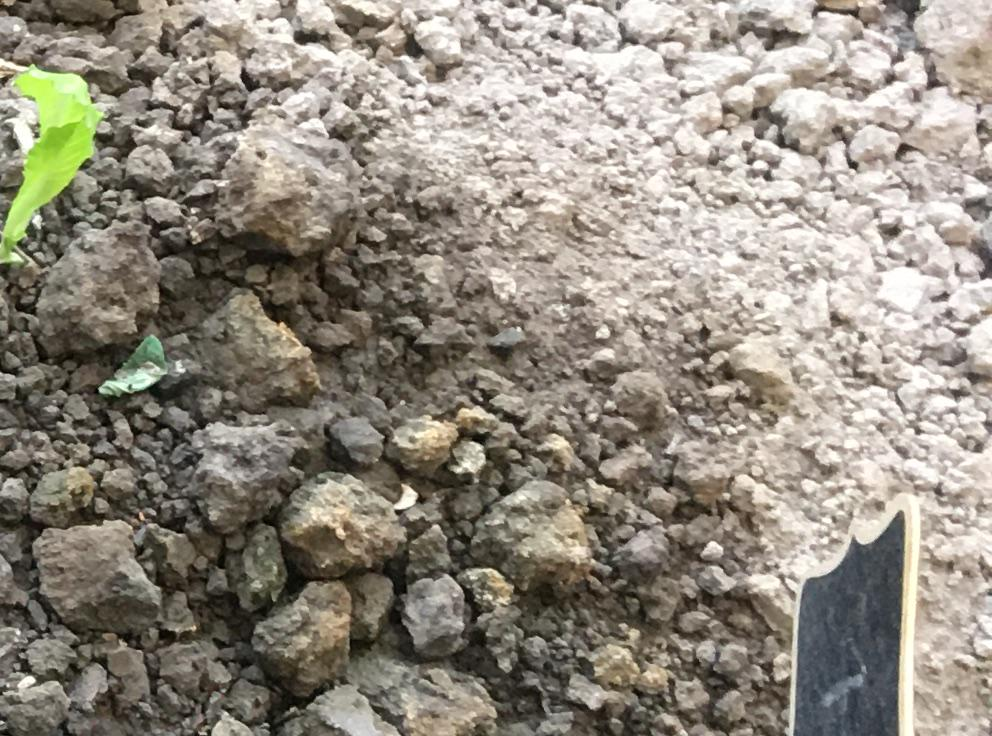block: (215, 129, 355, 262), (34, 227, 164, 356), (29, 520, 164, 634), (185, 295, 321, 406), (273, 473, 405, 578), (244, 582, 355, 703), (472, 483, 592, 594)
